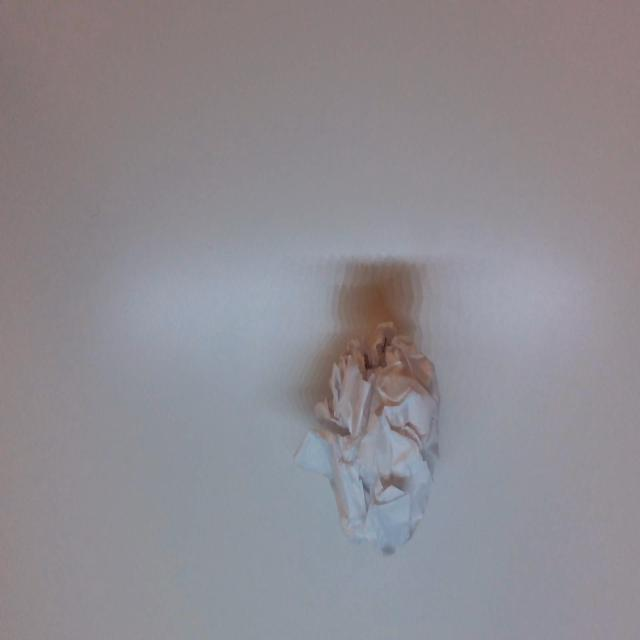Paper: (315, 331, 437, 562)
